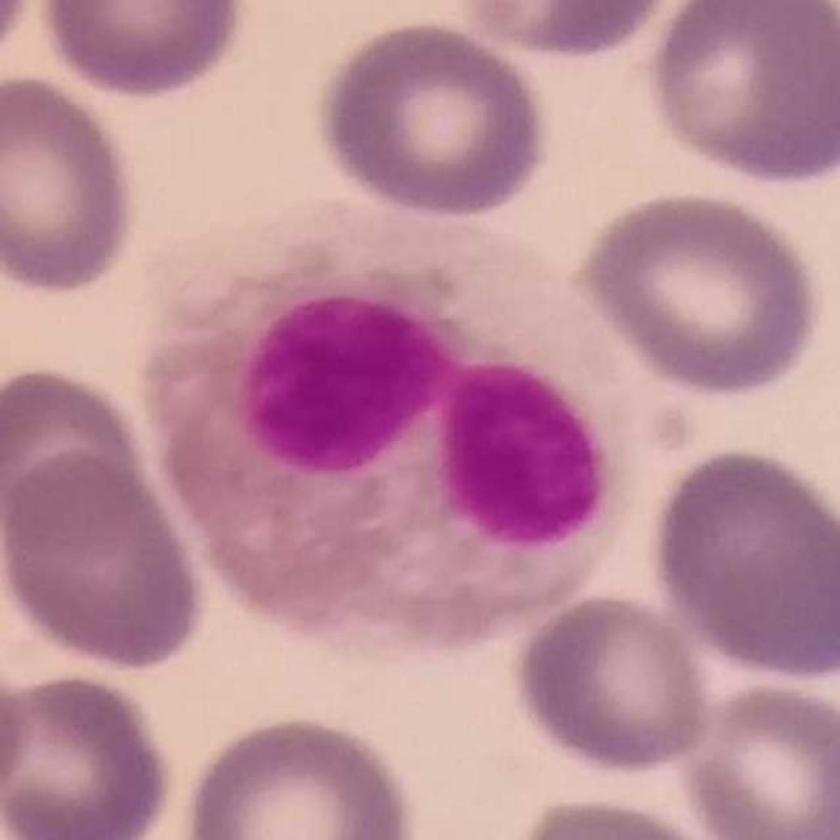eosinophil: (141, 208, 639, 652)
